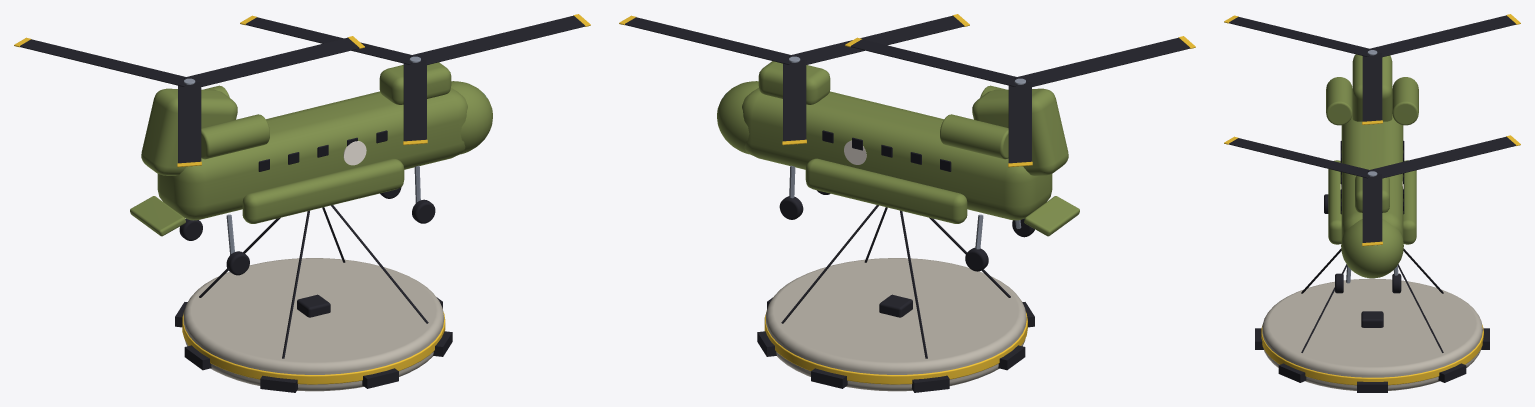
Rendered from chinook.glb.
3 views of the same model, side by side, from view 1: azimuth 30°, elevation 25°; view 2: azimuth 150°, elevation 25°; view 3: azimuth 270°, elevation 25° (orthographic). The views are drawn at different scales.
Visible parts, largest first — view 1: chinook, rotorB, rotorF; view 2: chinook, rotorB, rotorF; view 3: chinook, rotorB, rotorF.
Boxes of the visible parts, <box> form: chinook: <box>130,62,492,392</box>; rotorB: <box>14,36,364,167</box>; rotorF: <box>240,14,590,145</box>; chinook: <box>717,61,1079,392</box>; rotorB: <box>845,36,1195,167</box>; rotorF: <box>619,14,969,145</box>; chinook: <box>1255,54,1489,392</box>; rotorB: <box>1224,14,1520,124</box>; rotorF: <box>1224,135,1520,246</box>.
Size of the model in its own units: 21.66 by 12.2 by 13.46.
1 material, 1 textured.
